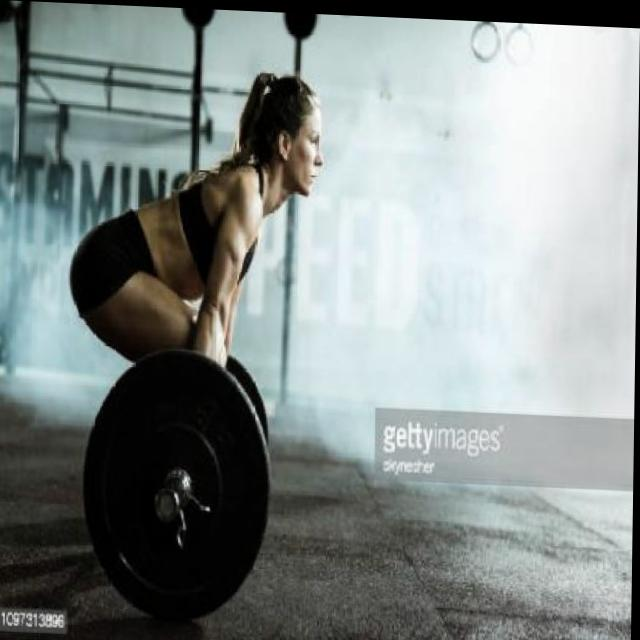barbell: (77, 339, 275, 631)
